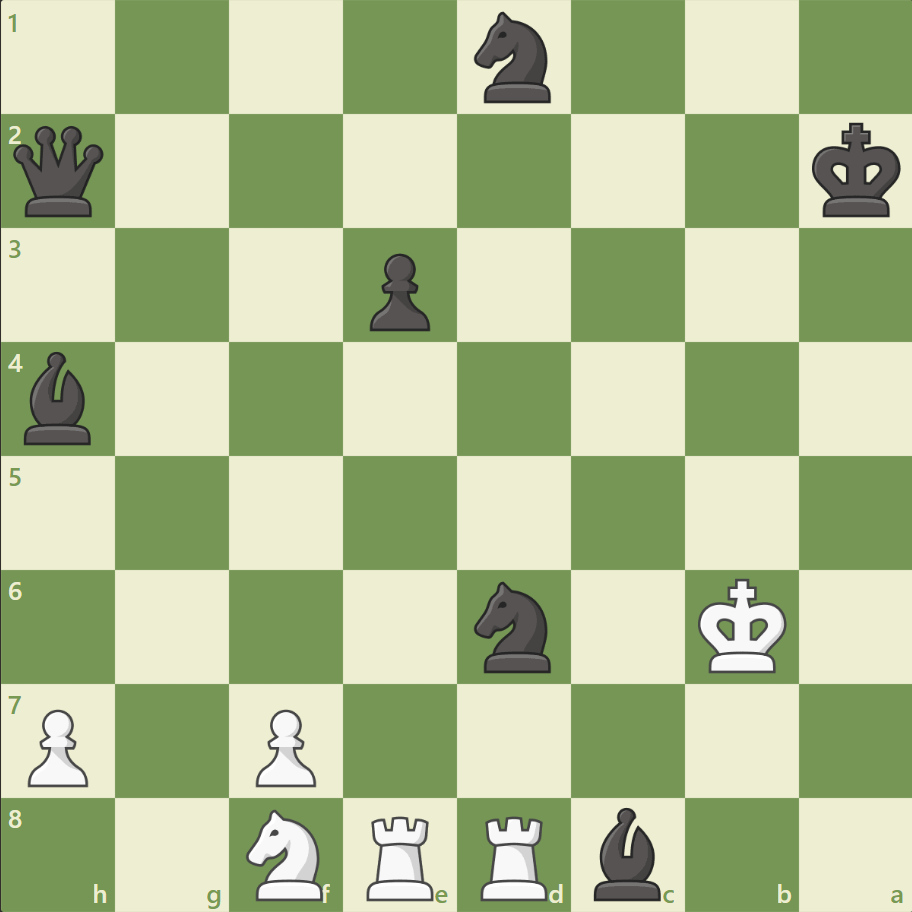K: (692, 571, 792, 679)
N: (238, 802, 335, 904)
P: (247, 700, 322, 791), (20, 700, 95, 791)
R: (473, 806, 556, 904), (360, 806, 442, 904)
b: (585, 801, 669, 904), (17, 347, 101, 449)
k: (806, 117, 906, 225)
n: (465, 7, 562, 110), (465, 575, 562, 677)
p: (361, 246, 435, 337)
q: (10, 122, 109, 222)
